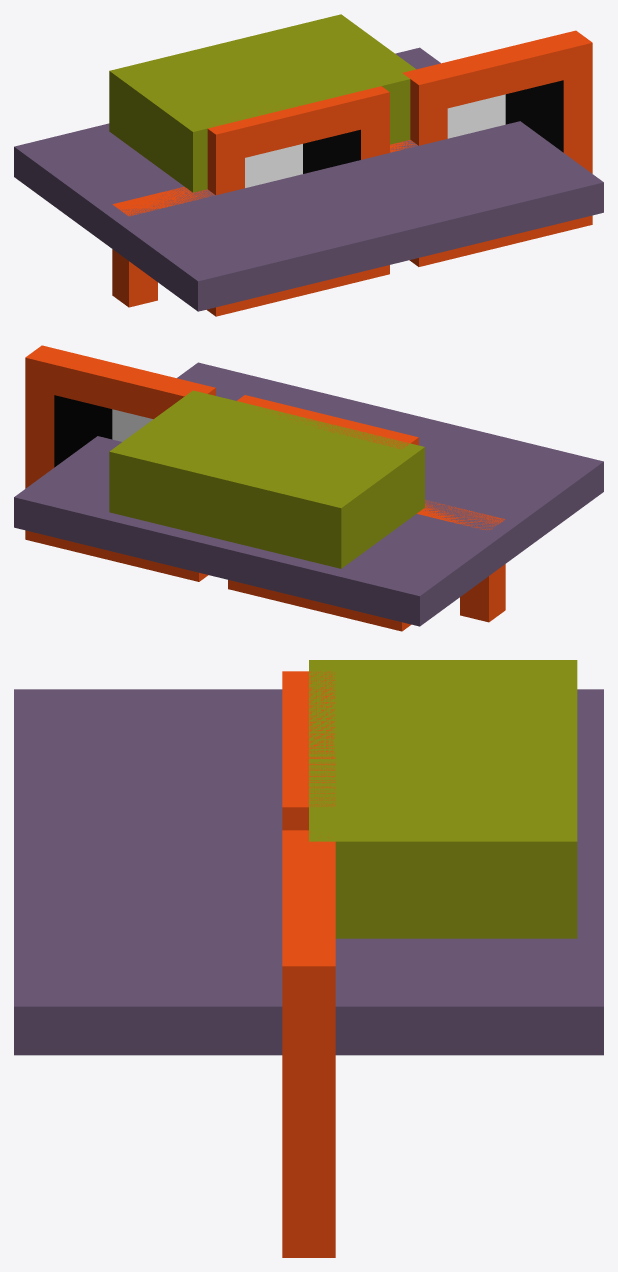
File: undead.glb
The picture shows the model from 3 angles, top to bottom: view 1: azimuth 30°, elevation 25°; view 2: azimuth 150°, elevation 25°; view 3: azimuth 270°, elevation 25°; orthographic projection. The views are drawn at different scales.
Parts seen in each view (by area): view 1: base, glasses, layer-2; view 2: base, glasses, layer-2; view 3: base, glasses.
Part boxes in pixels (box(x1,y1,x2,y2)): base: box(14, 14, 603, 311); glasses: box(112, 30, 592, 316); layer-2: box(245, 80, 563, 187); base: box(14, 362, 603, 626); glasses: box(25, 345, 505, 631); layer-2: box(54, 395, 152, 467); base: box(14, 660, 603, 1055); glasses: box(282, 671, 335, 1257).
Size of the model in its own units: 16.5 by 6 by 11.
6 materials, 6 textured.
